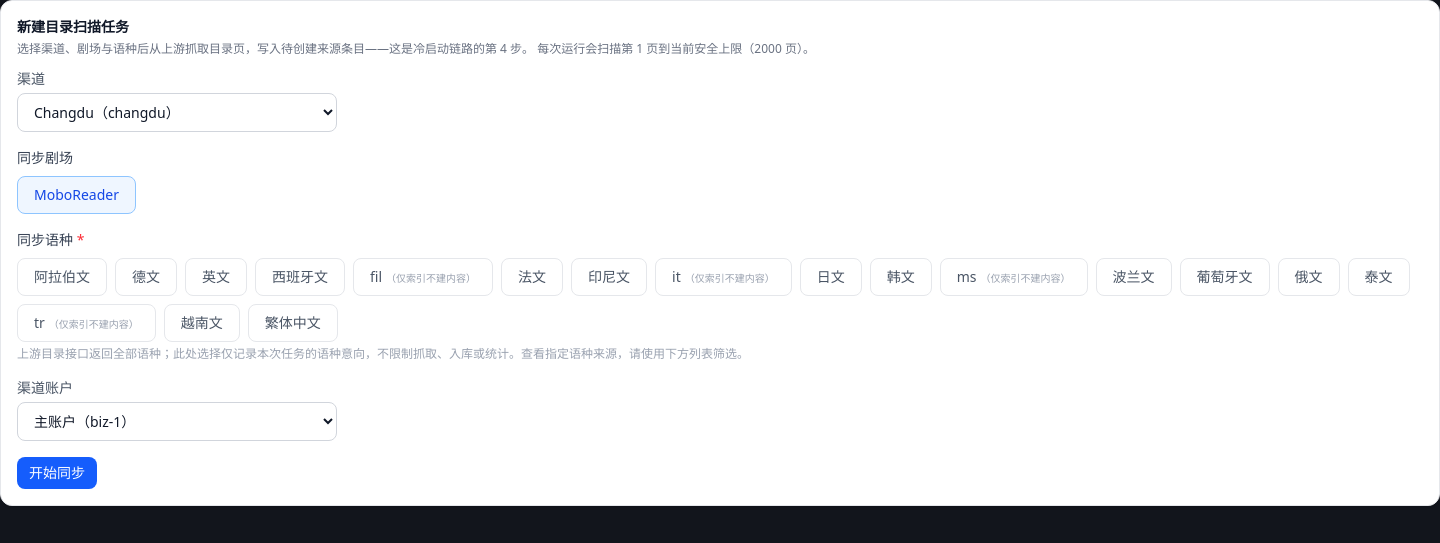
Test case: 表单校验：不合法输入拦在提交之前，Action 不会被调用 › 一个语种都没选 → 报错，不提交
Click the button "开始同步" at (57, 473), box [17,457,97,489]
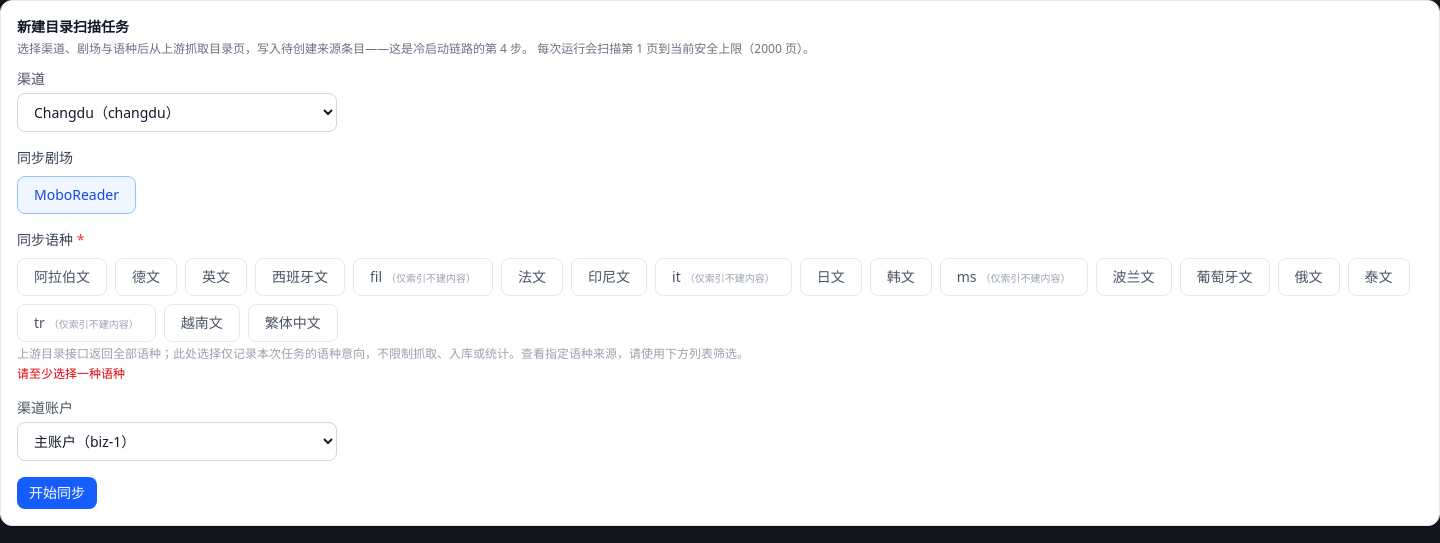
Expected: the text "请至少选择一种语种" is shown, [17,365,125,382]
